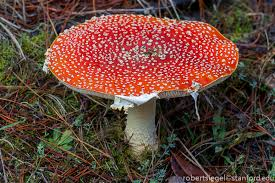Amanita muscaria: (33, 9, 247, 151)
